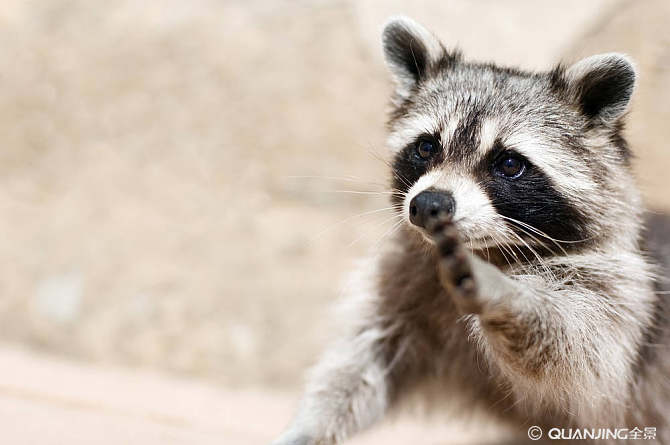raccoon: (274, 11, 668, 445)
